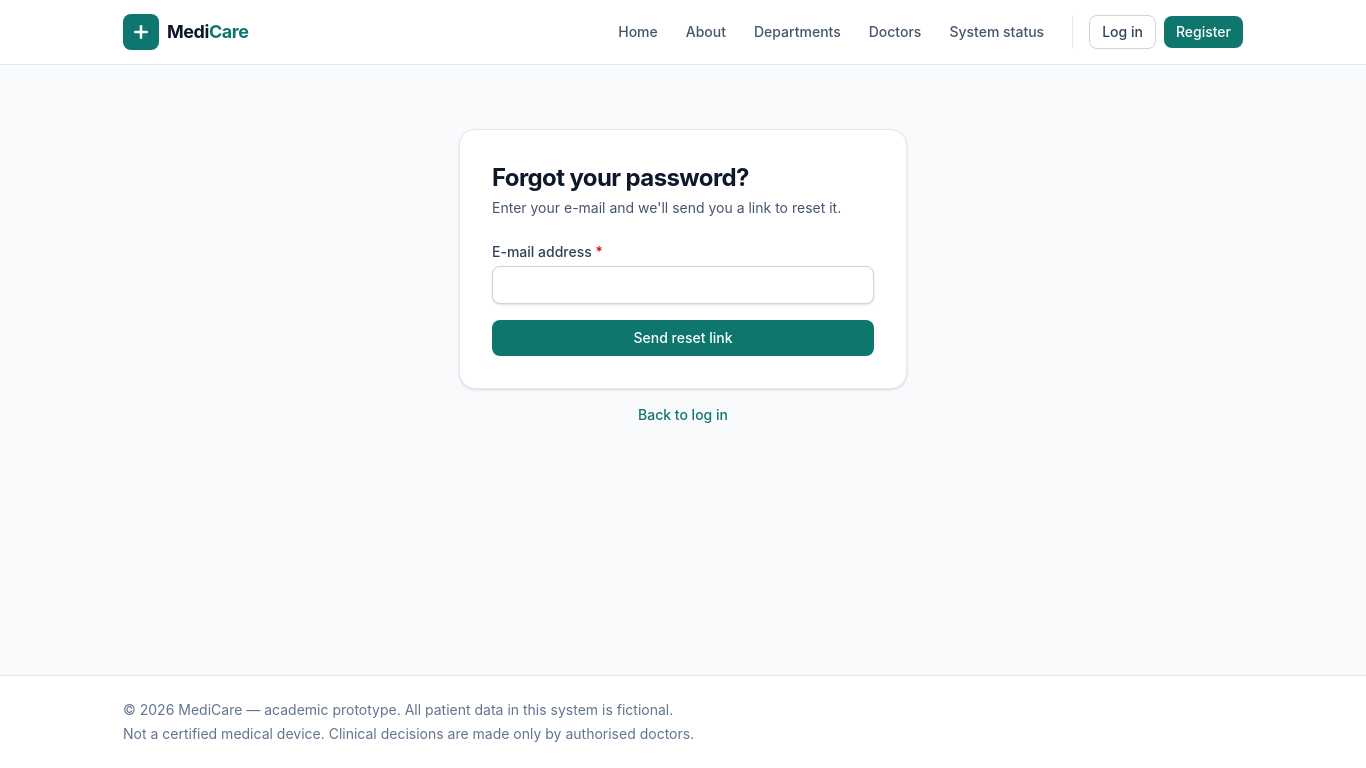
Scenario: Password recovery pages › forgot password shows the neutral confirmation message
Type "x@test.example" into the field labelled "E-mail address *".
click(683, 285); type("x@test.example")  # box [492,266,874,304]
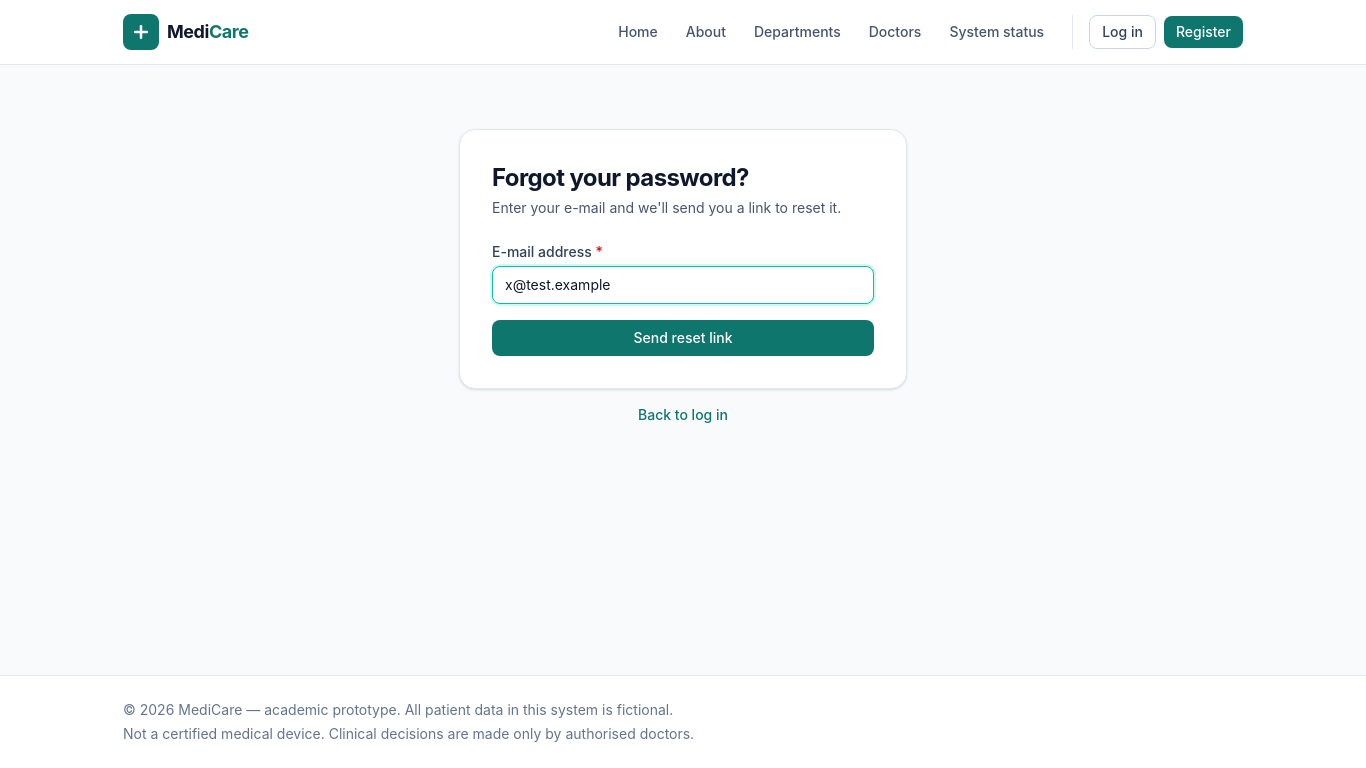
Click the button "Send reset link".
click(683, 338)  # box [492,320,874,356]
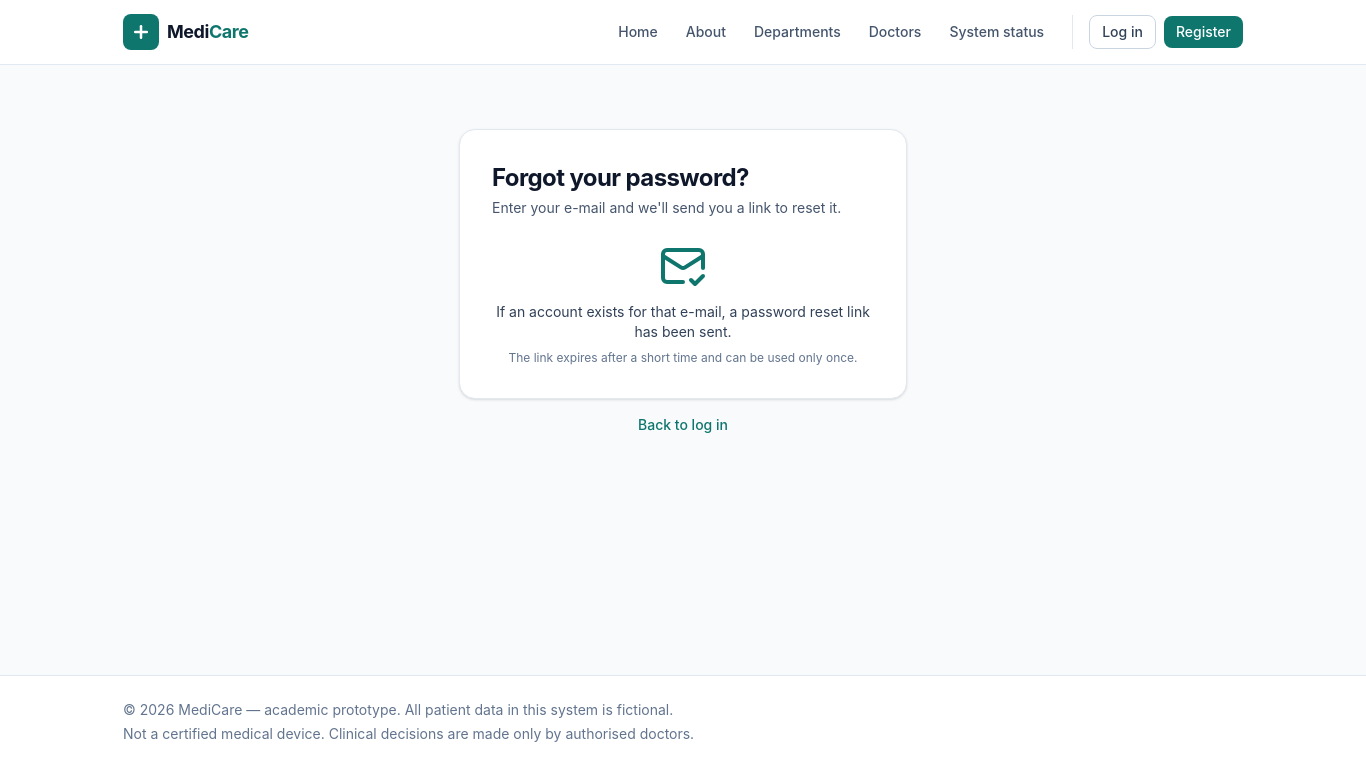
Expected: the text "If an account exists" is shown, [496,303,870,340]
